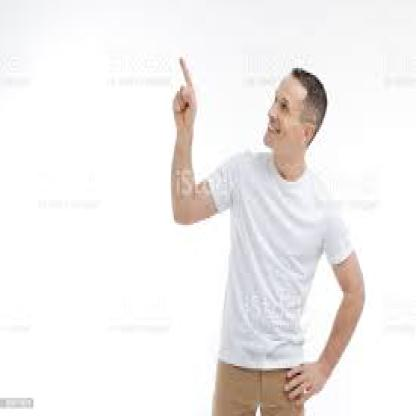Up: (152, 41, 206, 152)
